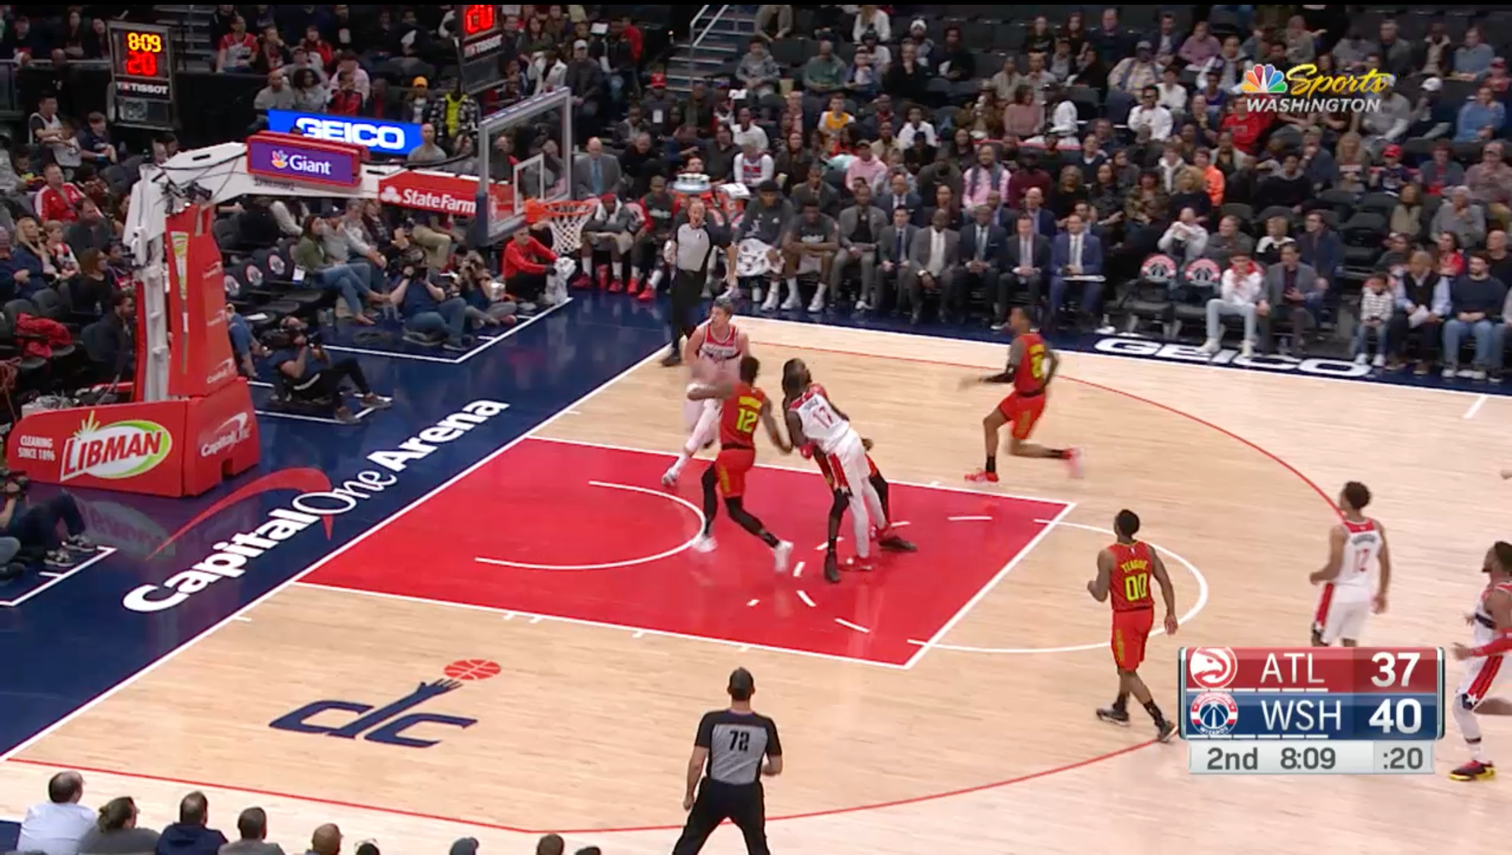Foul: (757, 367, 856, 599)
